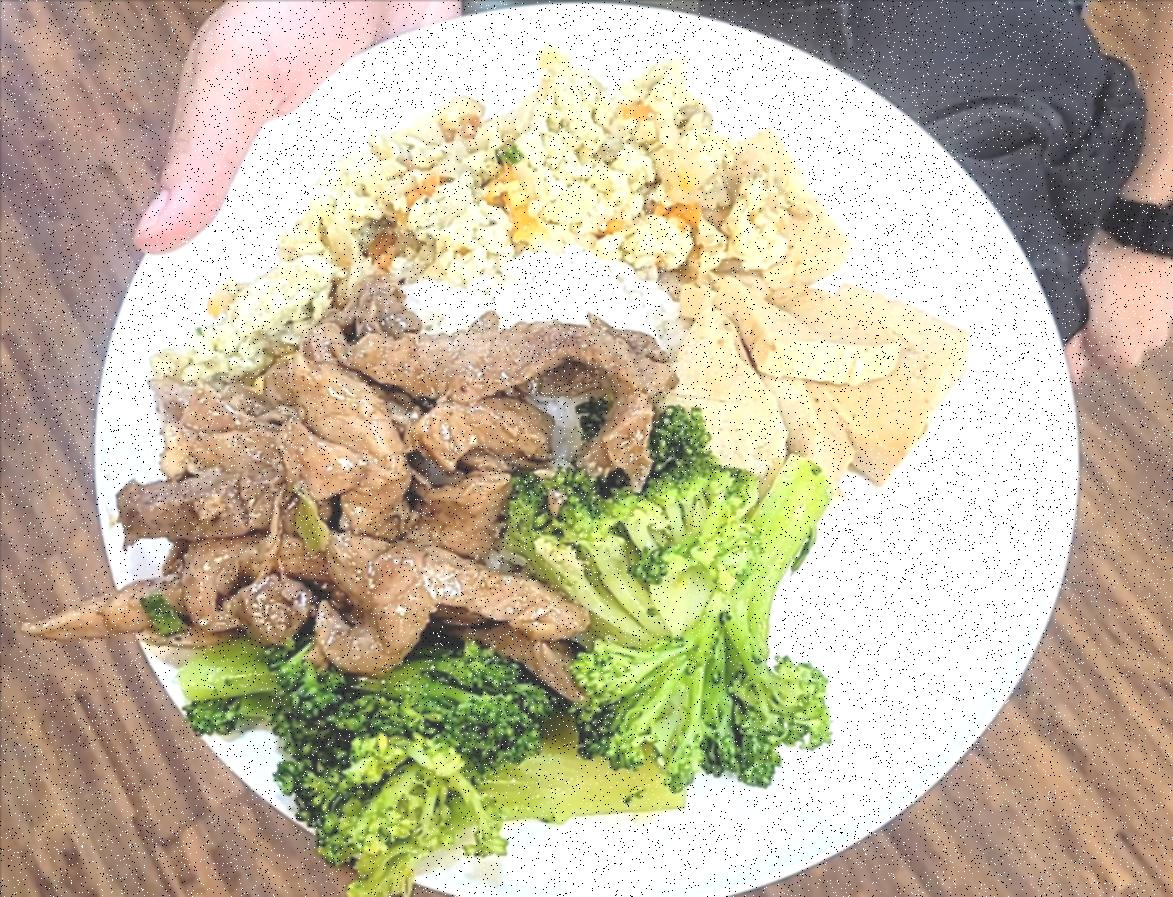big fried chicken leg: (72, 8, 1092, 897)
big herbal chicken leg: (373, 242, 692, 490)
braised fish fillet: (182, 456, 846, 870), (222, 48, 756, 338), (677, 130, 950, 490)
braised pork: (94, 305, 658, 642)
